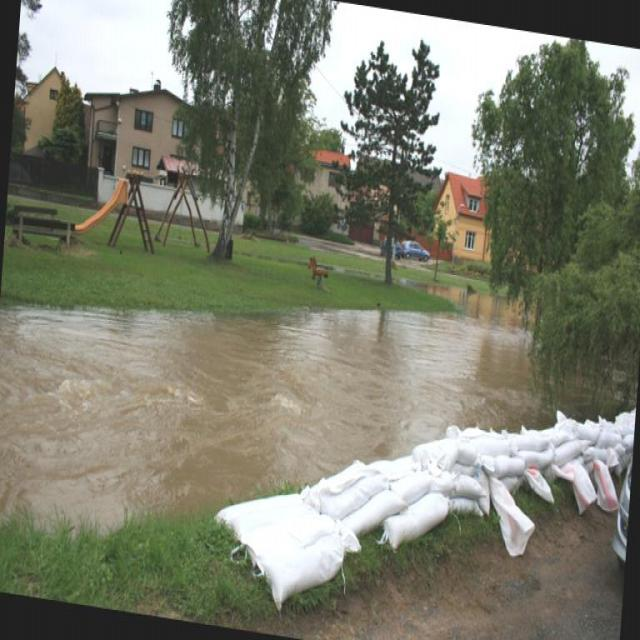flood: (0, 211, 543, 596)
